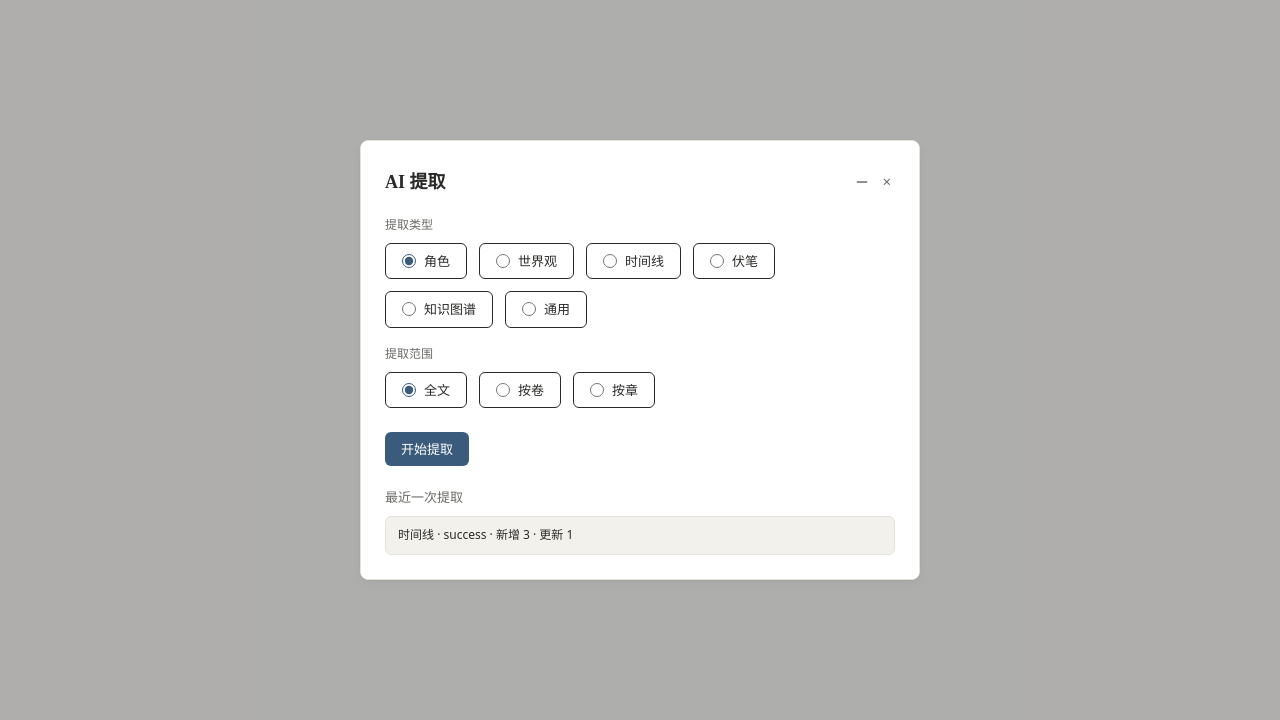
Test case: 「AI 提取」弹窗（#652 / #1528 / #1544） › 契约15（#1567）：添加范围 → 立即出现范围块 chip（内容 = 起止编号）
Click the radio button labelled "按章" at (597, 390), box [590, 383, 604, 397]
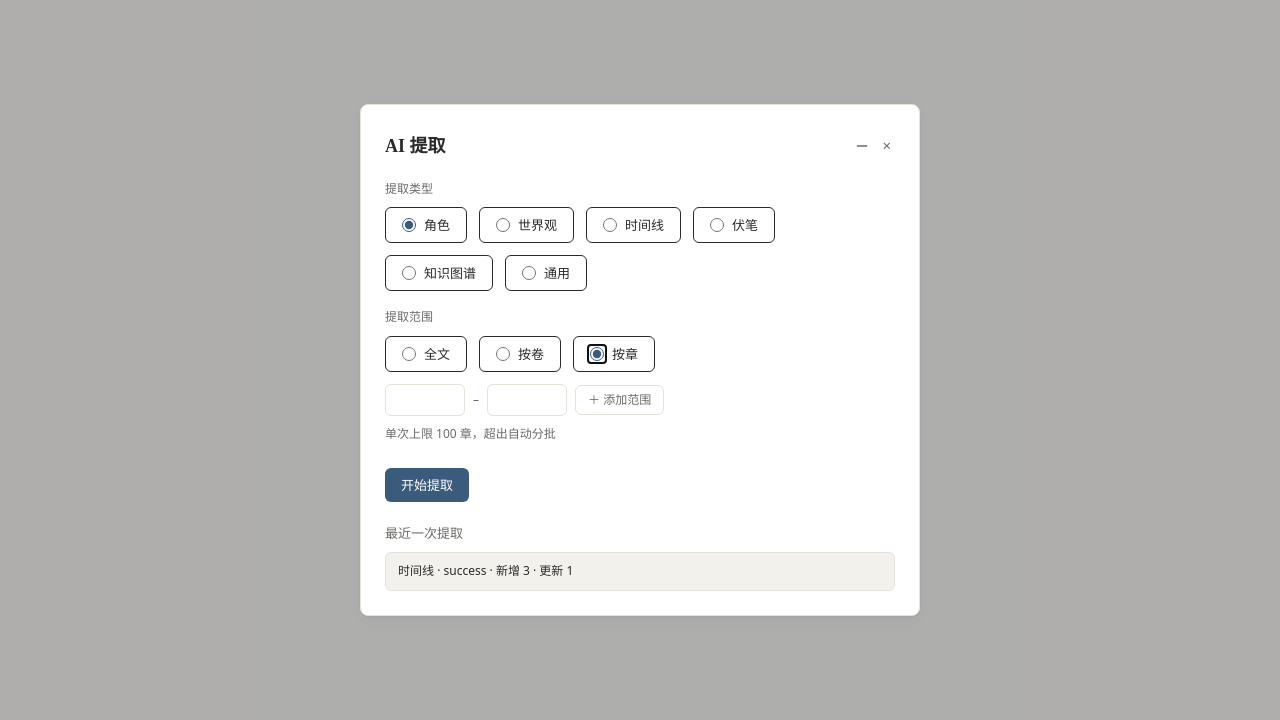
Type "1" into the number field with test id "ai-extract-range-from" at (425, 400), box [385, 384, 465, 416]
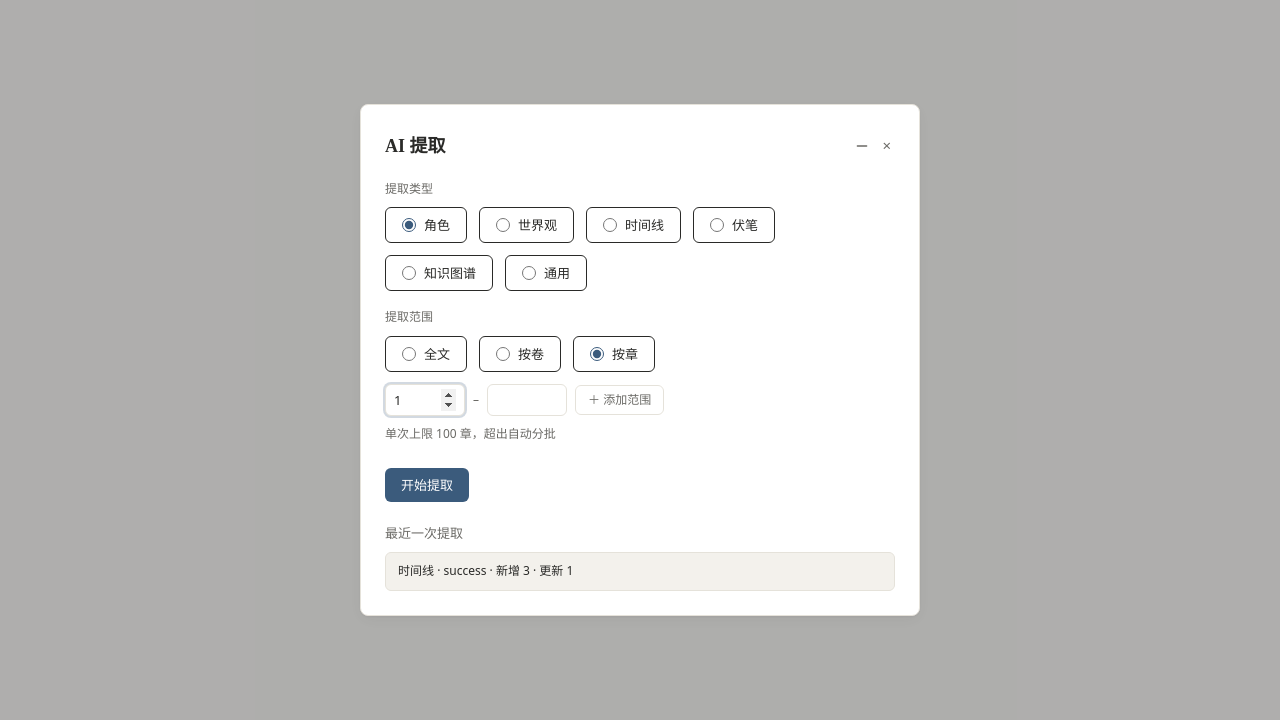
Type "2" into the number field with test id "ai-extract-range-to" at (527, 400), box [487, 384, 567, 416]
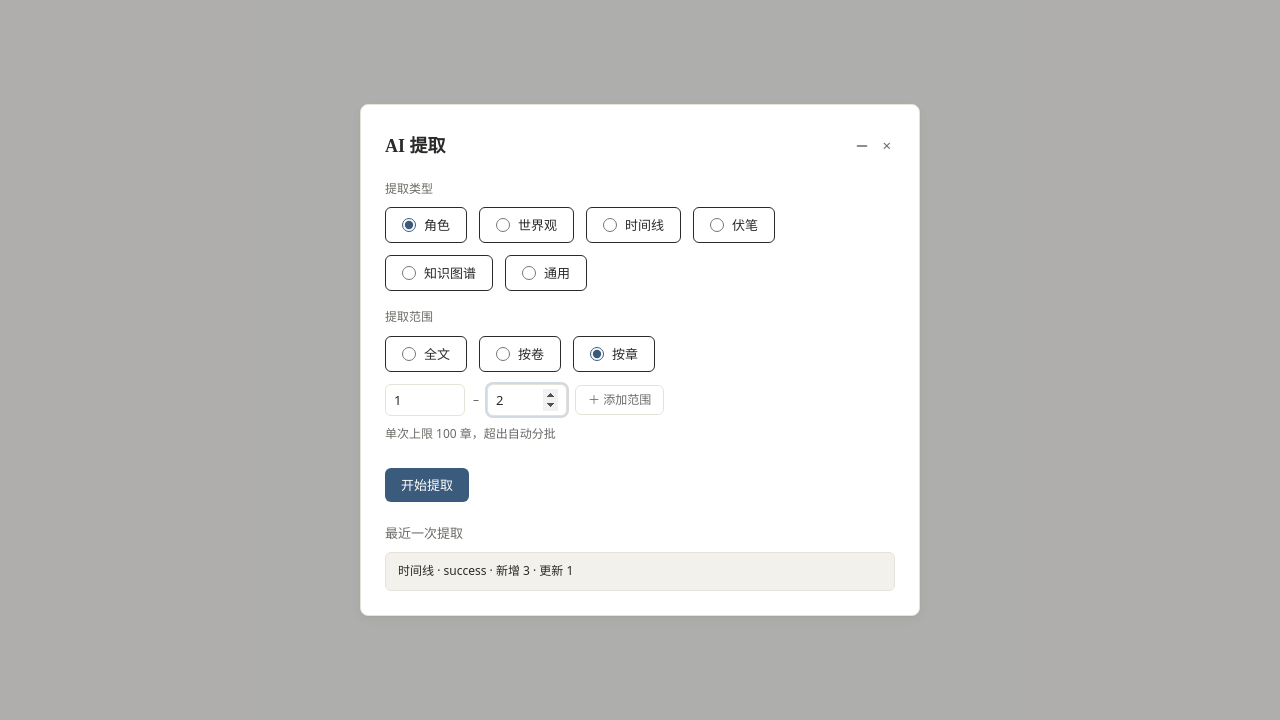
Click the button with test id "ai-extract-range-add" at (620, 400), box [575, 385, 664, 415]
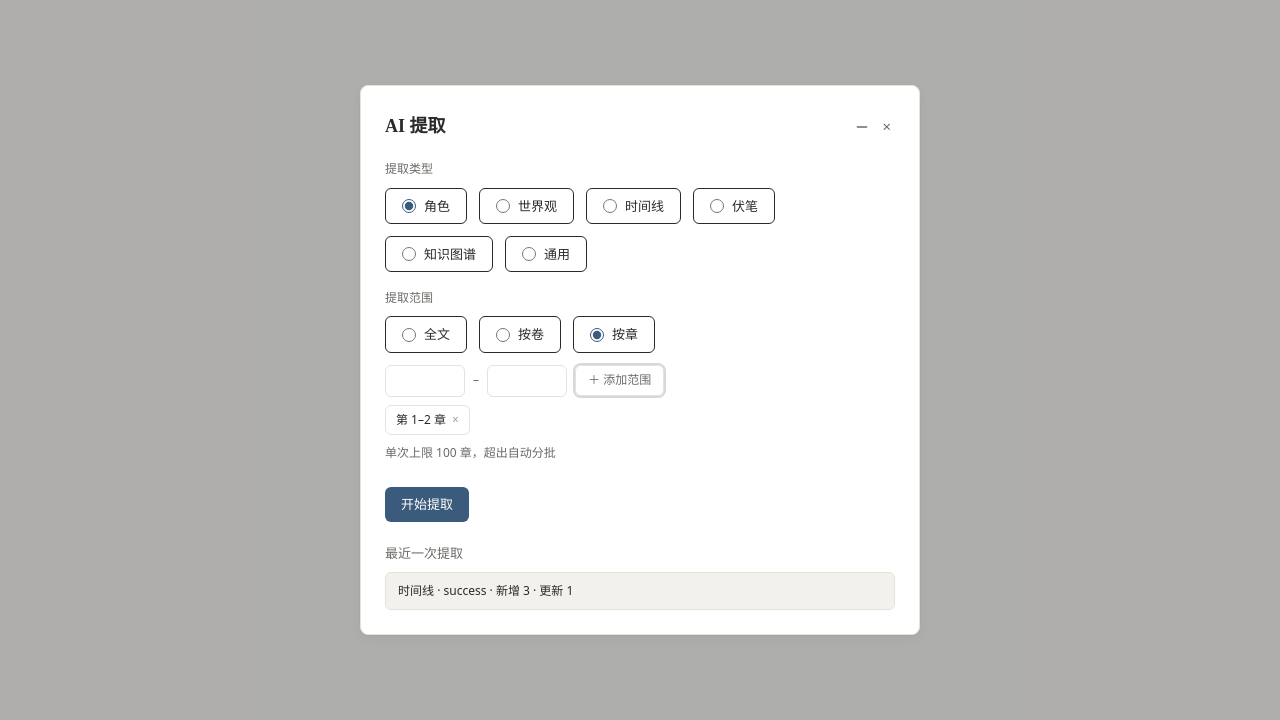
Expected: the number of elements with test id "ai-extract-range-chip" is 1, [385, 405, 470, 435]
Expected: the element with test id "ai-extract-range-chip" shows "1–2", [396, 411, 446, 428]
